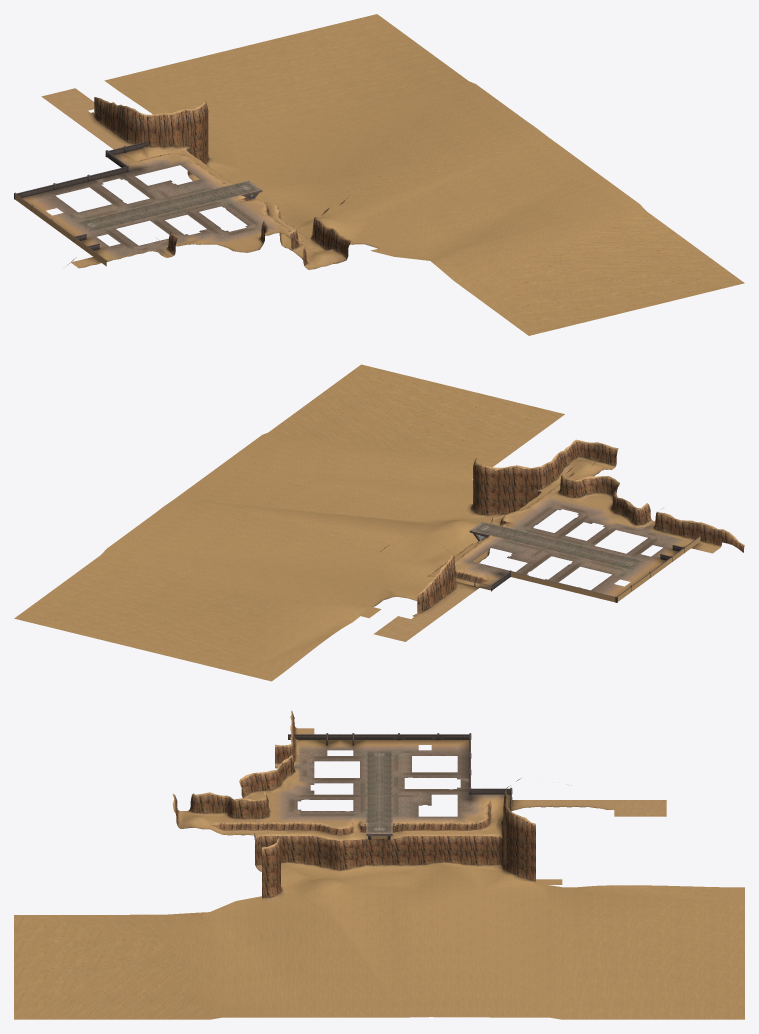
File: Zone04.glb
The picture shows the model from 3 angles, top to bottom: view 1: azimuth 30°, elevation 25°; view 2: azimuth 150°, elevation 25°; view 3: azimuth 270°, elevation 25°; orthographic projection. The views are drawn at different scales.
Parts seen in each view (by area): view 1: ZONE04436, ZONE04, ZONE04427, ZONE04002, ZONE04354, ZONE04197, ZONE04375, ZONE04402, ZONE04258, ZONE04057, ZONE04095, ZONE04001 (+21 smaller); view 2: ZONE04436, ZONE04427, ZONE04, ZONE04002, ZONE04354, ZONE04197, ZONE04375, ZONE04402, ZONE04057, ZONE04148, ZONE04278, ZONE04001 (+21 smaller); view 3: ZONE04436, ZONE04427, ZONE04, ZONE04002, ZONE04354, ZONE04197, ZONE04375, ZONE04402, ZONE04057, ZONE04431, ZONE04258, ZONE04001 (+25 smaller).
Part boxes in pixels (<box>): ZONE04436: <box>139,14,376,121</box>; ZONE04: <box>508,264,743,335</box>; ZONE04427: <box>277,14,468,121</box>; ZONE04002: <box>509,211,744,283</box>; ZONE04354: <box>326,84,527,181</box>; ZONE04197: <box>372,137,593,217</box>; ZONE04375: <box>247,84,473,181</box>; ZONE04402: <box>237,84,474,170</box>; ZONE04258: <box>327,137,546,213</box>; ZONE04057: <box>462,170,601,247</box>; ZONE04095: <box>406,171,591,243</box>; ZONE04001: <box>454,264,528,335</box>; ZONE04436: <box>15,602,269,673</box>; ZONE04427: <box>14,555,268,618</box>; ZONE04: <box>362,364,564,455</box>; ZONE04002: <box>268,364,435,455</box>; ZONE04354: <box>107,512,371,549</box>; ZONE04197: <box>175,467,415,520</box>; ZONE04375: <box>110,548,384,585</box>; ZONE04402: <box>108,548,384,603</box>; ZONE04057: <box>220,444,428,475</box>; ZONE04148: <box>220,467,420,520</box>; ZONE04278: <box>176,498,395,549</box>; ZONE04001: <box>437,414,564,465</box>; ZONE04436: <box>575,904,744,1019</box>; ZONE04427: <box>562,930,744,1019</box>; ZONE04: <box>14,915,170,1019</box>; ZONE04002: <box>15,943,209,1019</box>; ZONE04354: <box>419,910,548,1017</box>; ZONE04197: <box>314,913,405,1017</box>; ZONE04375: <box>432,890,548,1016</box>; ZONE04402: <box>484,890,549,1017</box>; ZONE04057: <box>223,931,313,1017</box>; ZONE04431: <box>575,897,742,929</box>; ZONE04258: <box>353,898,405,1016</box>; ZONE04001: <box>15,914,170,942</box>.
Size of the model in its own units: 384 by 48.34 by 448.
45 materials, 44 textured.
